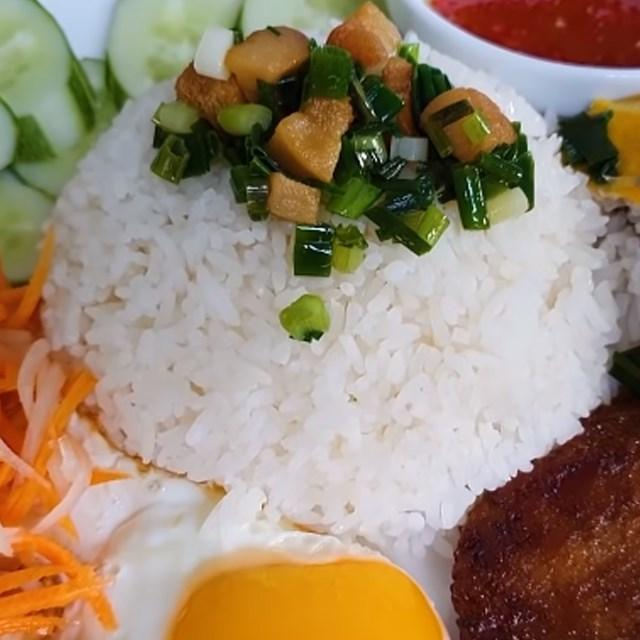com: (30, 7, 640, 567)
com suon trung: (0, 2, 640, 640)
dua chua: (0, 212, 162, 640)
suon: (441, 381, 640, 640)
trung: (0, 402, 473, 640)
